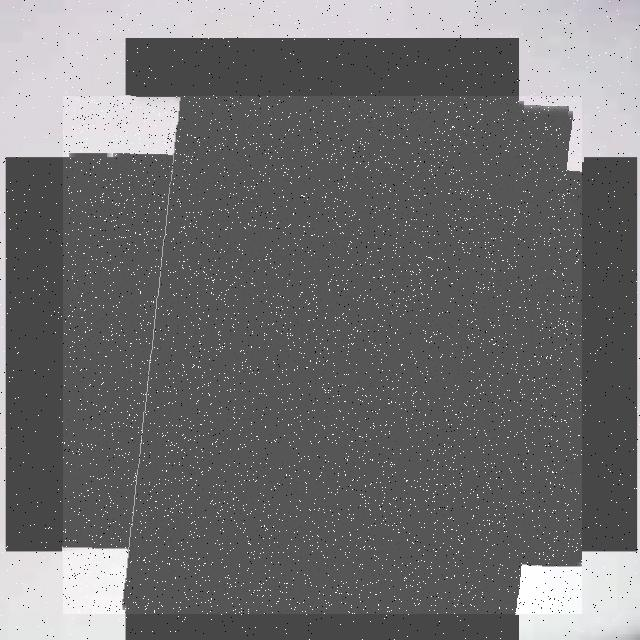dua ribu rupiah: (63, 96, 582, 614)
